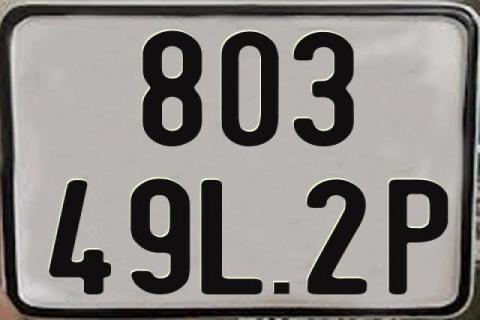0: (48, 180, 113, 298), (222, 29, 284, 149), (139, 29, 203, 145), (292, 31, 356, 146), (305, 177, 367, 293), (130, 176, 190, 292)
L: (201, 180, 268, 297)
P: (388, 177, 452, 296)
